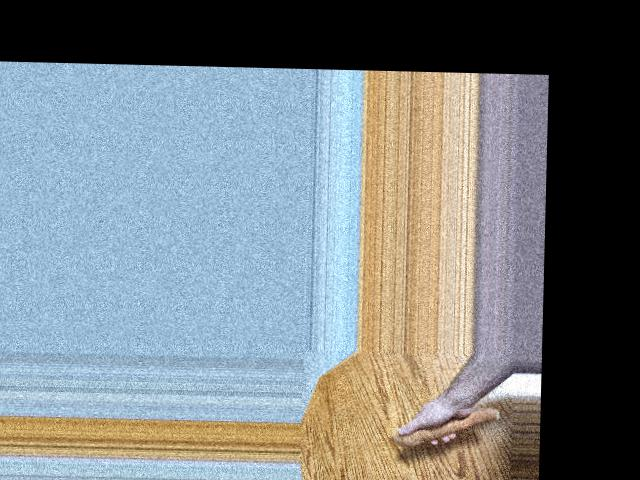sweet_potato: (392, 401, 501, 453)
